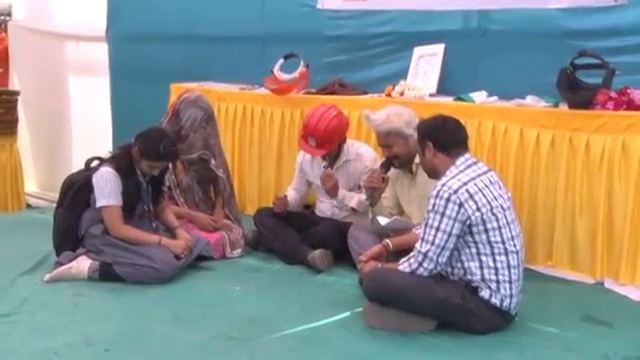helmet: (298, 108, 351, 154)
helmet_off: (414, 113, 472, 185), (369, 106, 421, 172), (165, 93, 220, 155), (122, 128, 179, 184)
helmet_on: (297, 107, 352, 167)
person: (345, 110, 526, 334), (43, 126, 202, 284), (253, 99, 378, 263), (151, 80, 245, 262), (349, 108, 450, 274)
